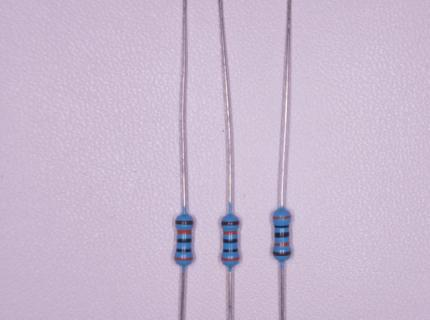Black band: (275, 232, 289, 238), (223, 239, 238, 243), (177, 248, 191, 252), (223, 249, 238, 252), (177, 239, 191, 242), (275, 226, 289, 228)
Brown band: (175, 220, 193, 225), (221, 221, 239, 226), (273, 251, 291, 256)
Orange band: (175, 256, 192, 261), (222, 257, 240, 261), (275, 243, 290, 247), (223, 231, 237, 235), (273, 216, 291, 219), (178, 230, 191, 234)
